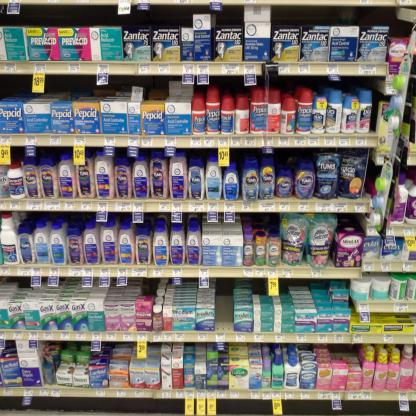Void: (216, 277, 231, 331)
